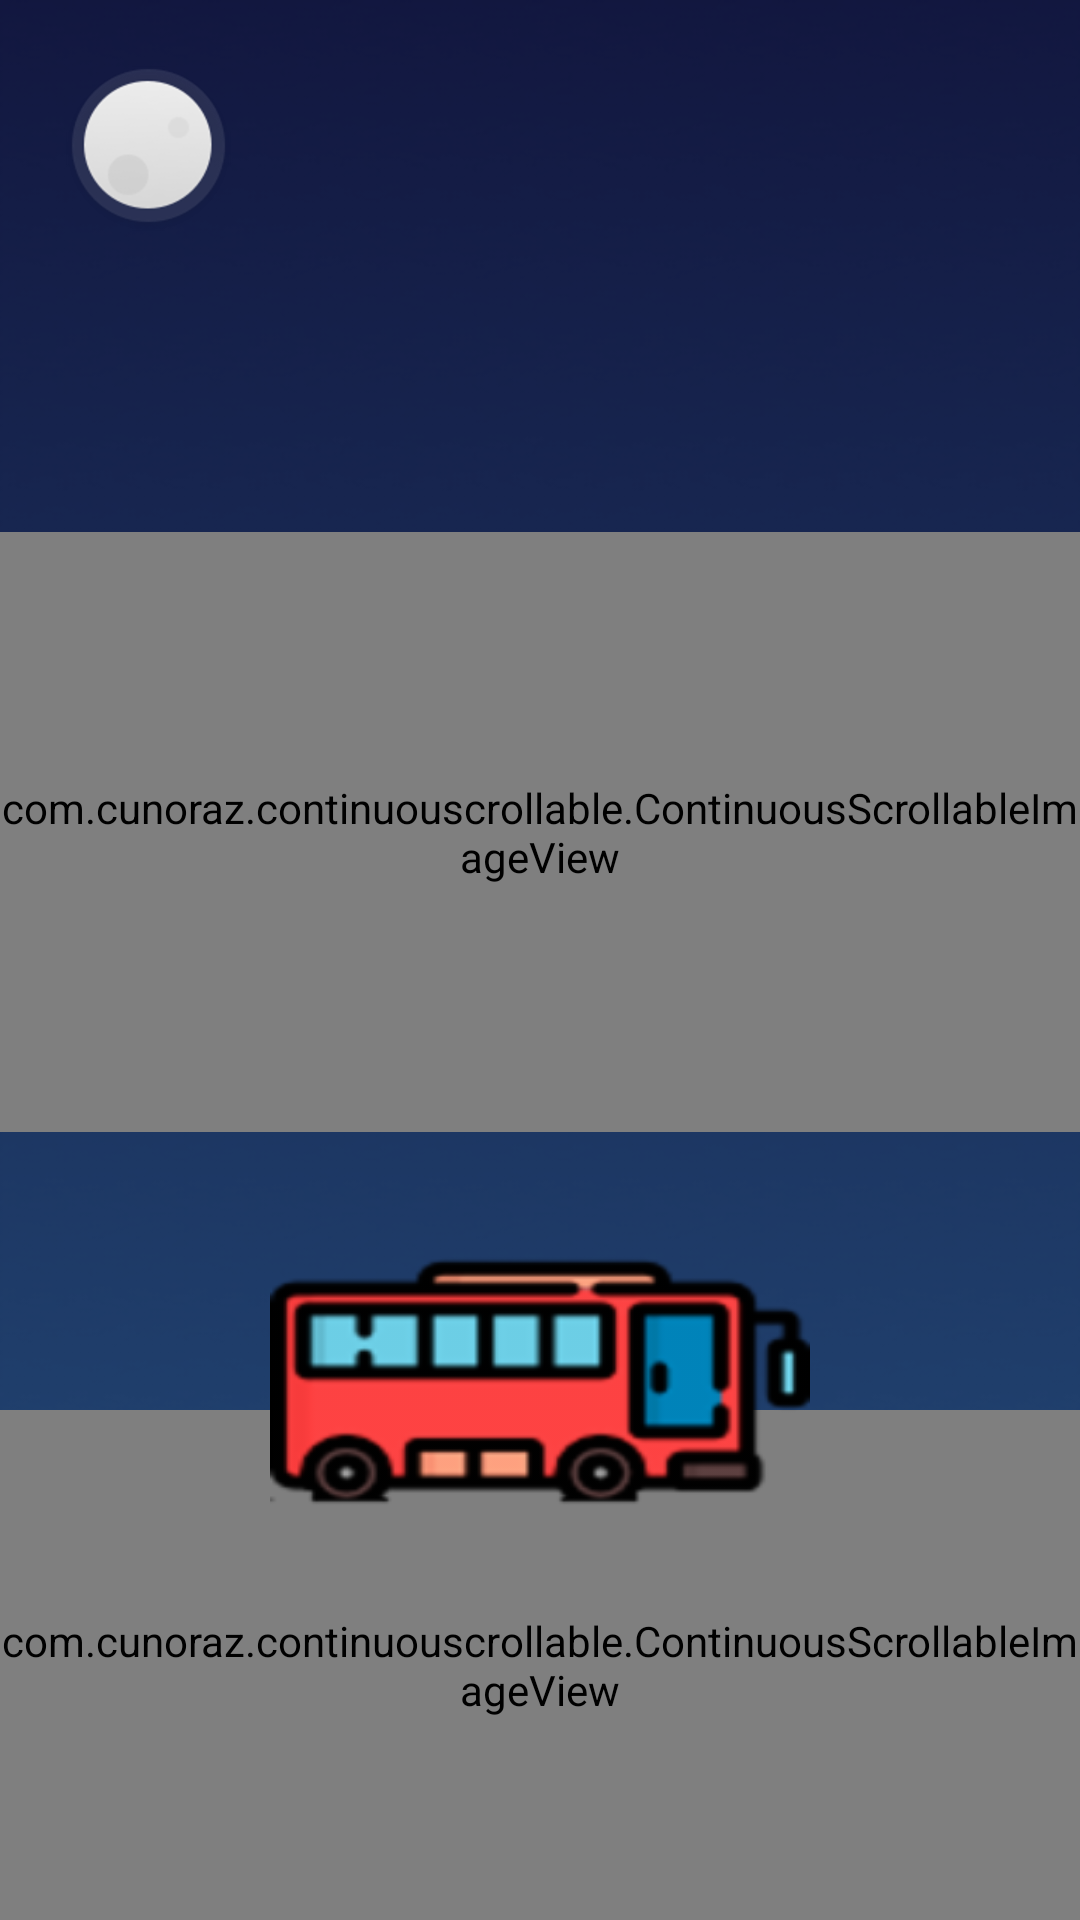

Point at icon controls on the screen. Image size 1080×1920, points as (x,y).
moon: (142,150)
